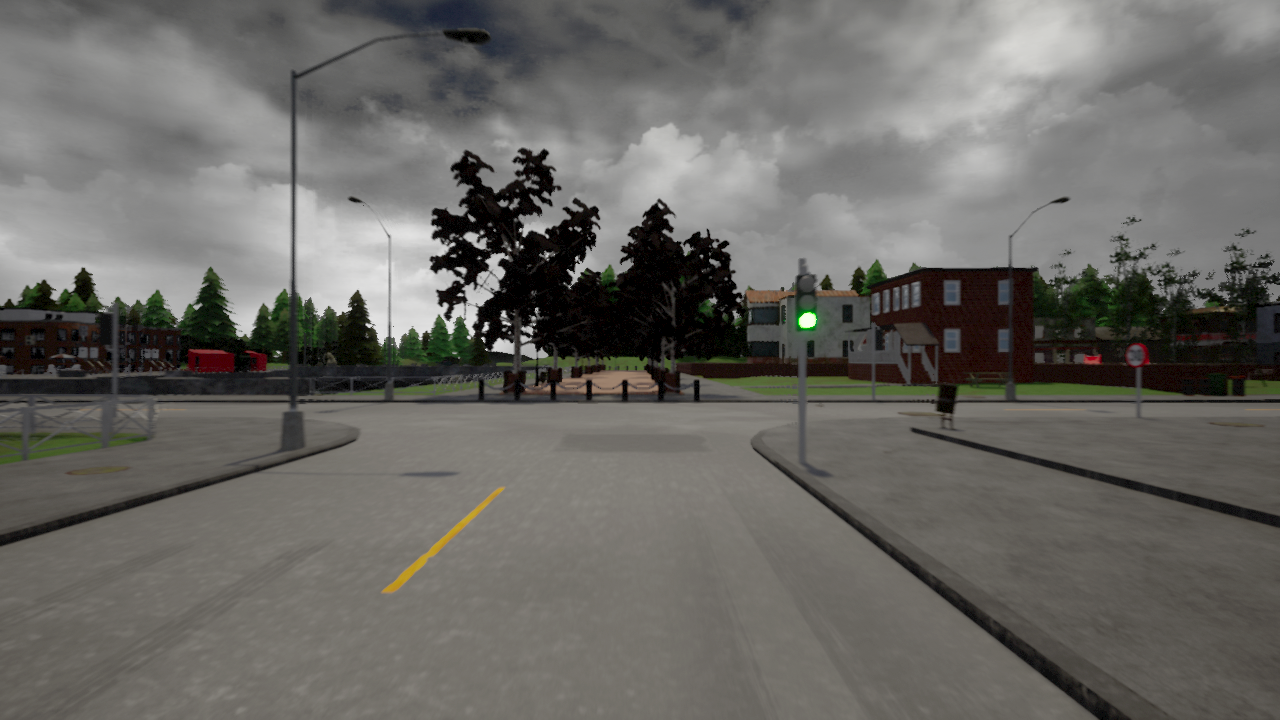green: (793, 272, 817, 334)
